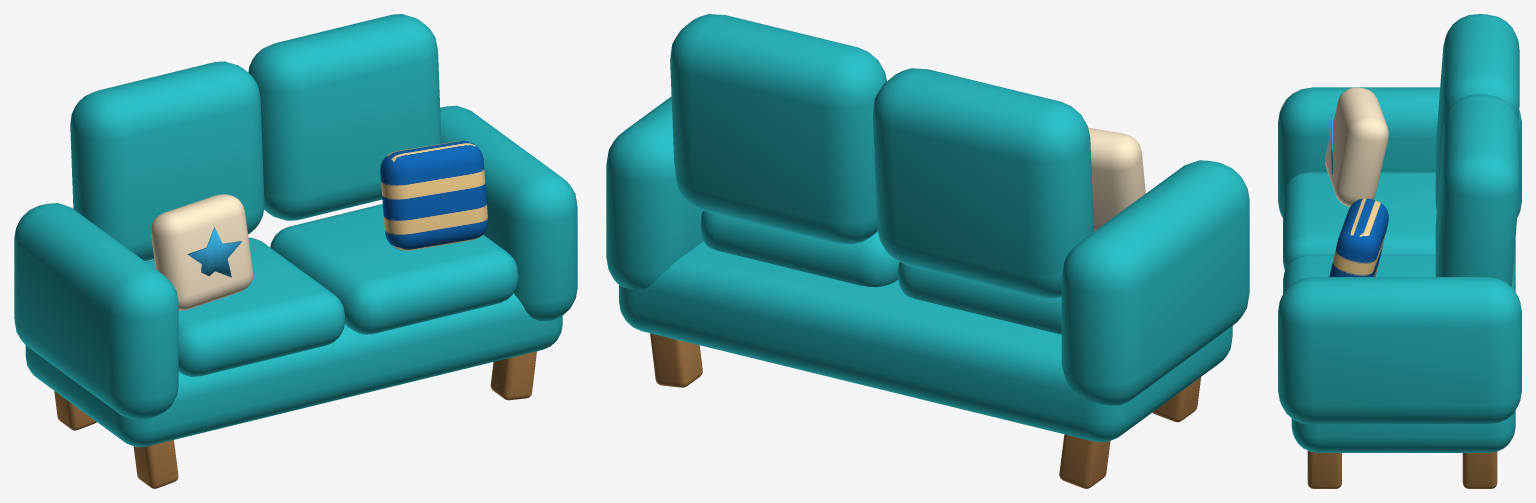
The model's file is easy_couch_07.fbx.
The picture shows the model from 3 angles, left to right: view 1: azimuth 30°, elevation 25°; view 2: azimuth 150°, elevation 25°; view 3: azimuth 270°, elevation 25°; orthographic projection. The views are drawn at different scales.
Parts seen in each view (by area): view 1: EC07_LOD0; view 2: EC07_LOD0; view 3: EC07_LOD0.
Part boxes in pixels (<box>): EC07_LOD0: <box>14,14,577,488</box>; EC07_LOD0: <box>606,14,1249,488</box>; EC07_LOD0: <box>1278,14,1521,488</box>.
Size of what is drawn, in the model's own units: 2.12 by 1.42 by 0.99.
Materials: 5 (1 with a texture image).
